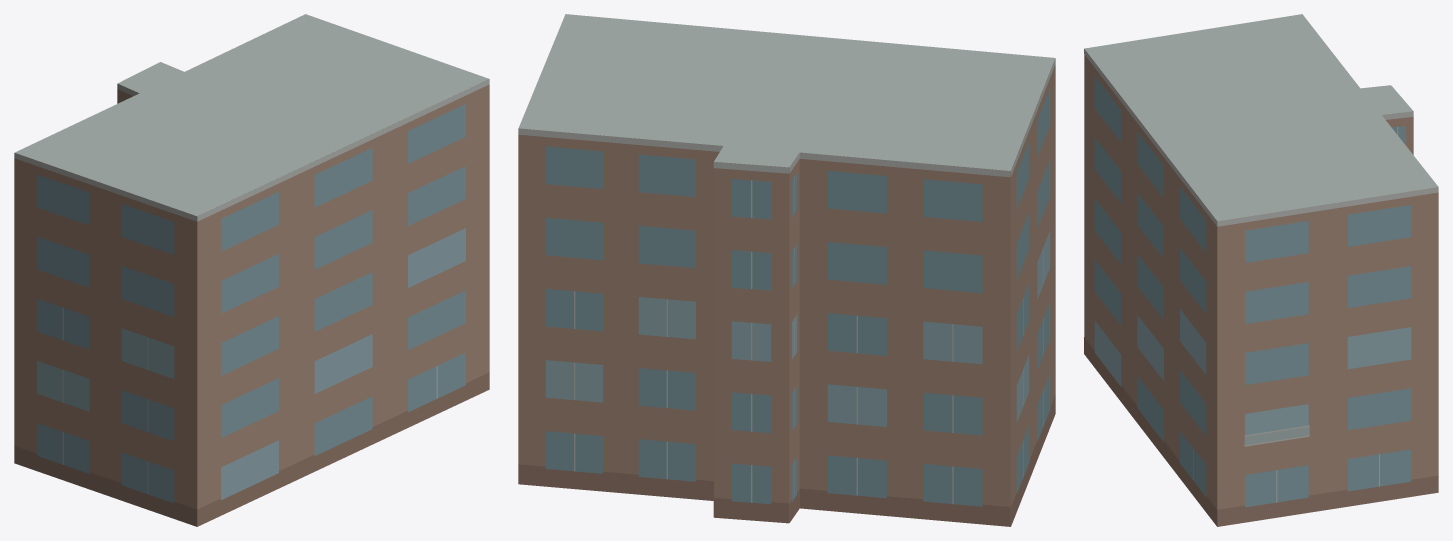
File: survey-upis-32911512.glb
3 renders of one model, left to right at view 1: azimuth 30°, elevation 25°; view 2: azimuth 150°, elevation 25°; view 3: azimuth 270°, elevation 25°, orthographic. The views are drawn at different scales.
Visible parts, largest first — view 1: survey-upis-32911512.tmp; view 2: survey-upis-32911512.tmp; view 3: survey-upis-32911512.tmp.
Boxes of the visible parts, x1,y1,x2,y2 form: survey-upis-32911512.tmp: [14, 14, 489, 526]; survey-upis-32911512.tmp: [518, 14, 1055, 526]; survey-upis-32911512.tmp: [1084, 14, 1438, 526].
Size of the model in its own units: 20.09 by 13.8 by 14.52.
